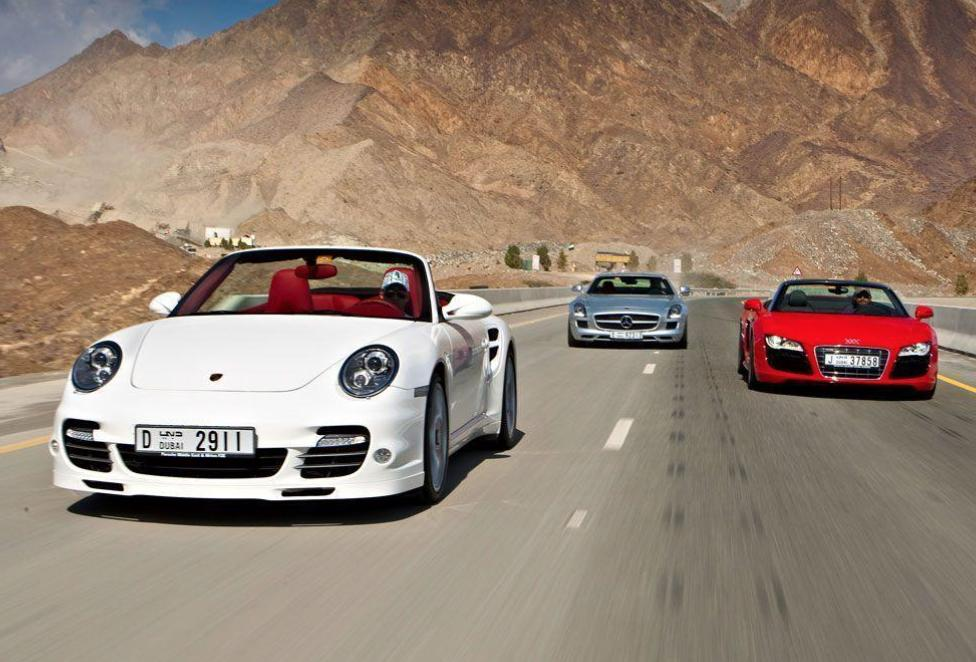car: (61, 219, 527, 535), (733, 260, 946, 400), (563, 250, 697, 363)
